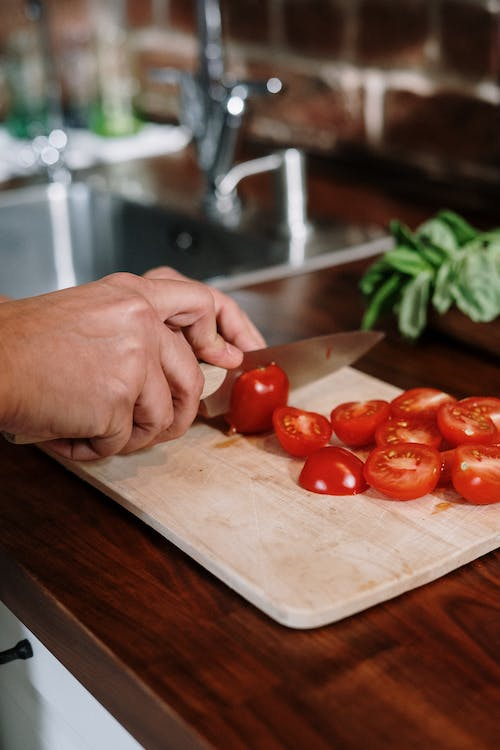knife: (200, 327, 389, 422)
